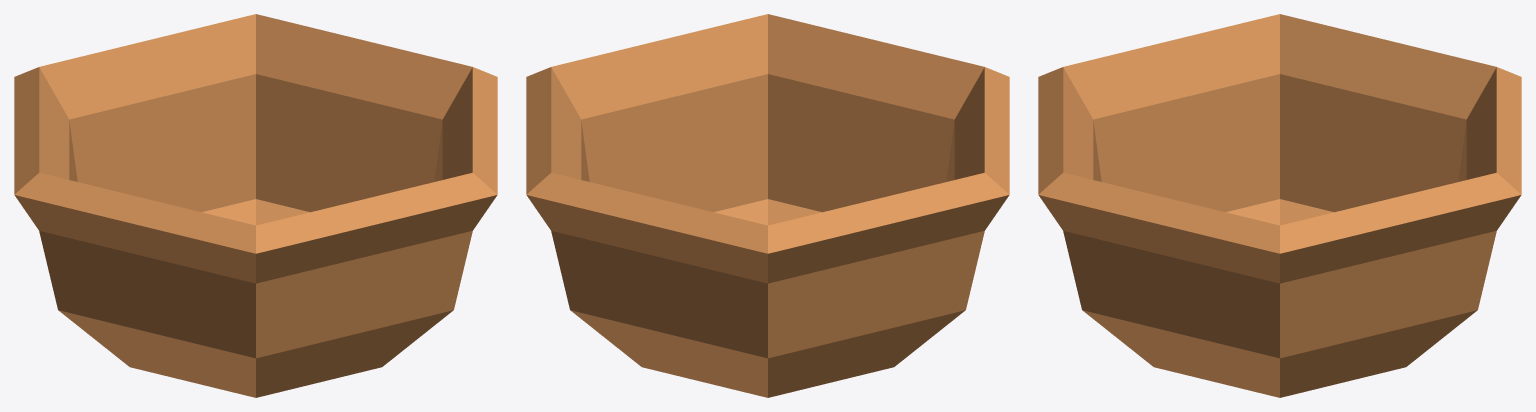
File: SM_Prop_Bowl_01.glb
The picture shows the model from 3 angles, left to right: view 1: azimuth 30°, elevation 25°; view 2: azimuth 150°, elevation 25°; view 3: azimuth 270°, elevation 25°; orthographic projection.
Parts seen in each view (by area): view 1: SM_Prop_Bowl_01; view 2: SM_Prop_Bowl_01; view 3: SM_Prop_Bowl_01.
Boxes of the visible parts, left/top/right/bottom form: SM_Prop_Bowl_01: left=14, top=14, right=497, bottom=397; SM_Prop_Bowl_01: left=526, top=14, right=1009, bottom=397; SM_Prop_Bowl_01: left=1038, top=14, right=1521, bottom=397.
Size of the model in its own units: 0.6847 by 0.2964 by 0.593.
Materials: 1 (1 with a texture image).
